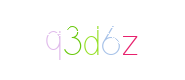3: (48, 0, 128, 80)
6: (52, 0, 132, 80)
D: (50, 0, 130, 80)
Q: (42, 0, 122, 80)
Z: (90, 0, 170, 80)
